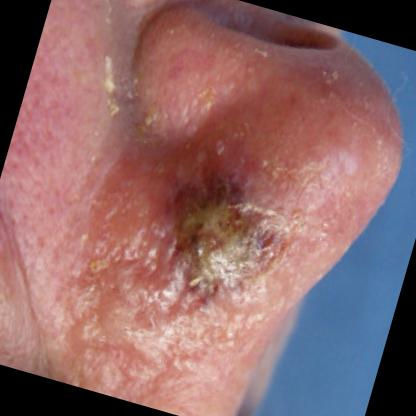Warts: (133, 151, 302, 329)
